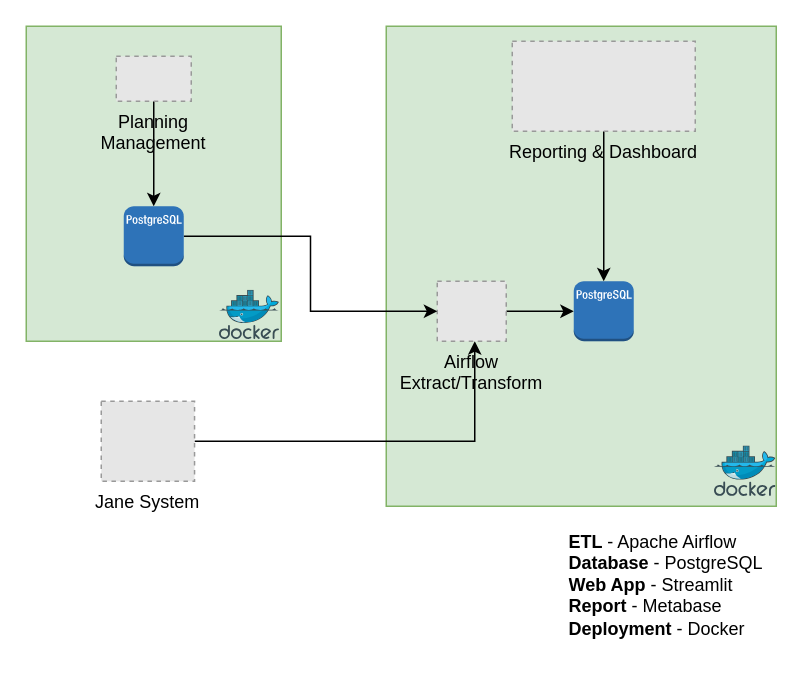
Image size: 803x687. Some labels were removed from this diagram. Grey dashed boxes stand in for pictures. Each missing label, with the centre of its shape:
Data Warehouse: point 603,310
PMS Database: point 153,235
